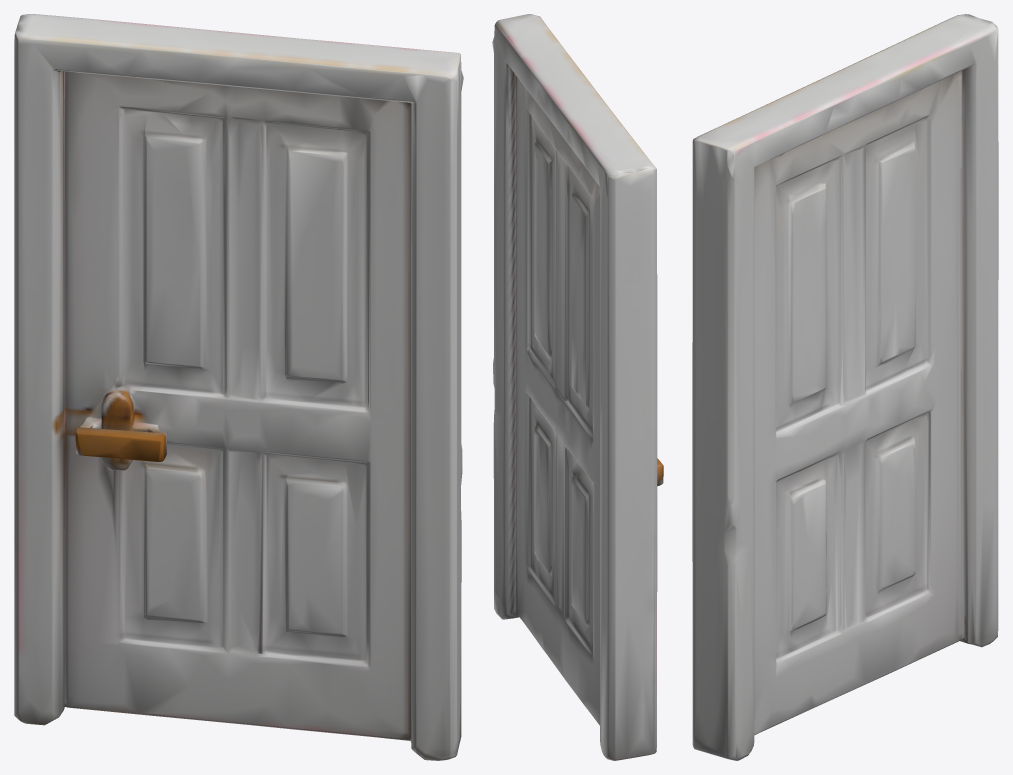
The model's file is door.fbx.
3 views of the same model, side by side, from view 1: azimuth 30°, elevation 25°; view 2: azimuth 150°, elevation 25°; view 3: azimuth 270°, elevation 25° (orthographic). The views are drawn at different scales.
Parts seen in each view (by area): view 1: node_0.005; view 2: node_0.005; view 3: node_0.005.
Boxes of the visible parts, <box> form: node_0.005: <box>14,14,463,760</box>; node_0.005: <box>492,14,663,760</box>; node_0.005: <box>692,14,998,760</box>.
Size of the model in its own units: 0.1841 by 0.3797 by 0.1715.
1 material, 1 textured.
